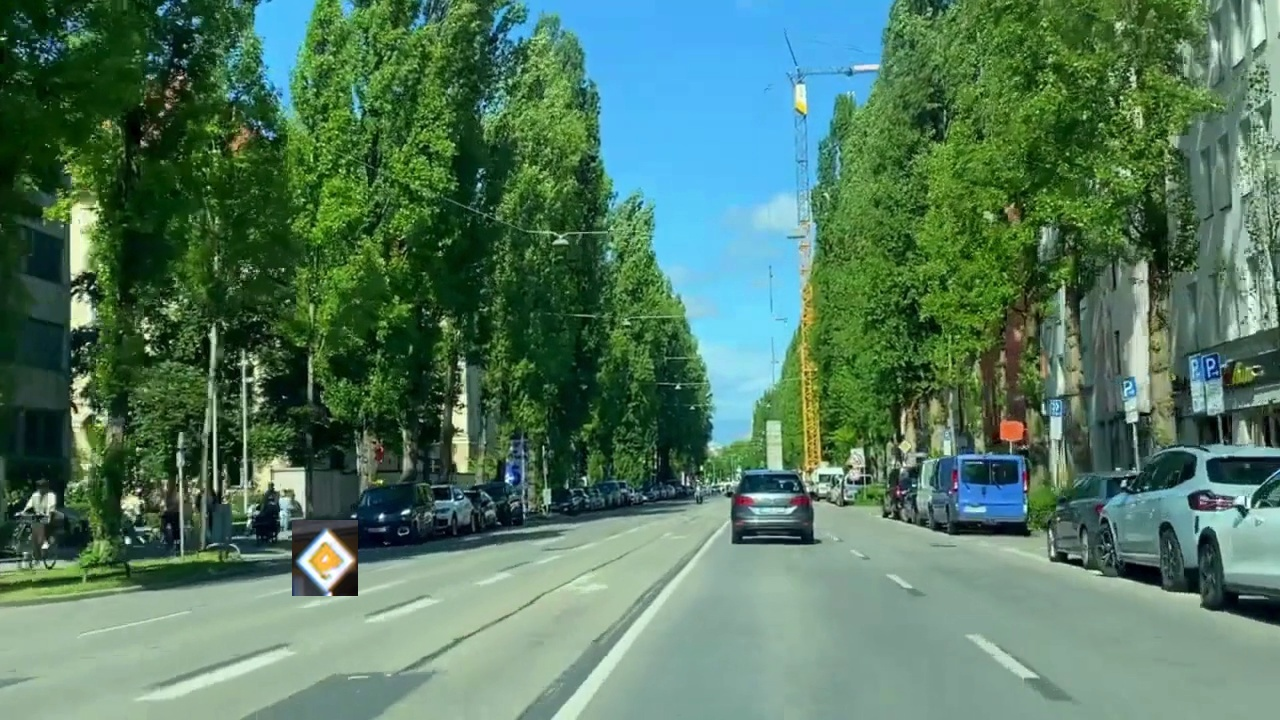Priority road: (292, 520, 358, 596)
